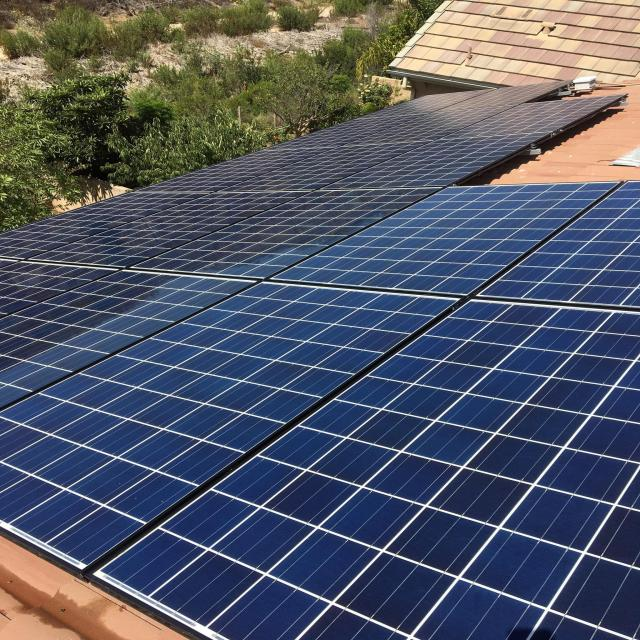clean-solar-panel: (0, 77, 640, 640)
